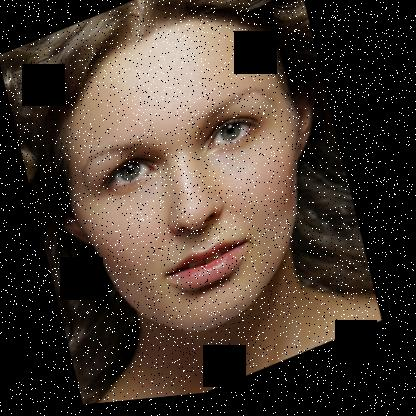Female: (10, 0, 376, 385)
